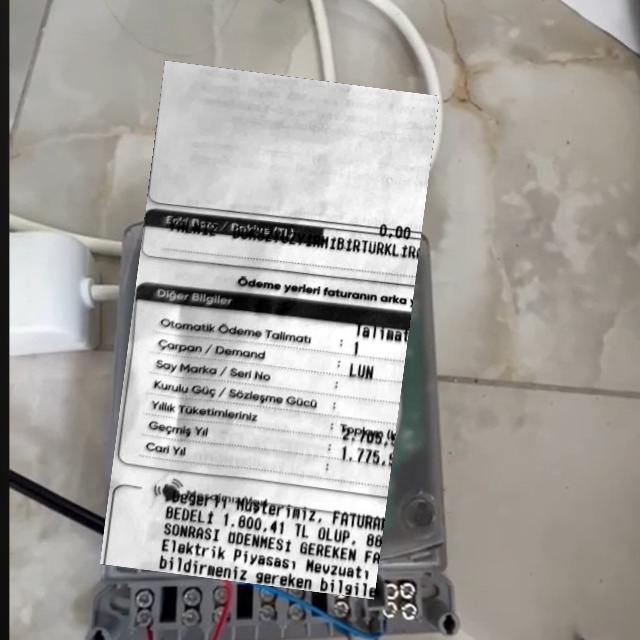electricity-bill: (99, 60, 438, 600)
